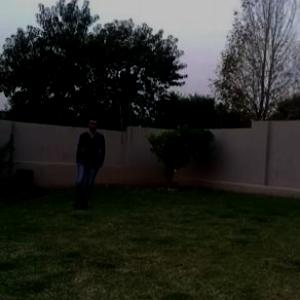follow: (72, 112, 104, 213)
